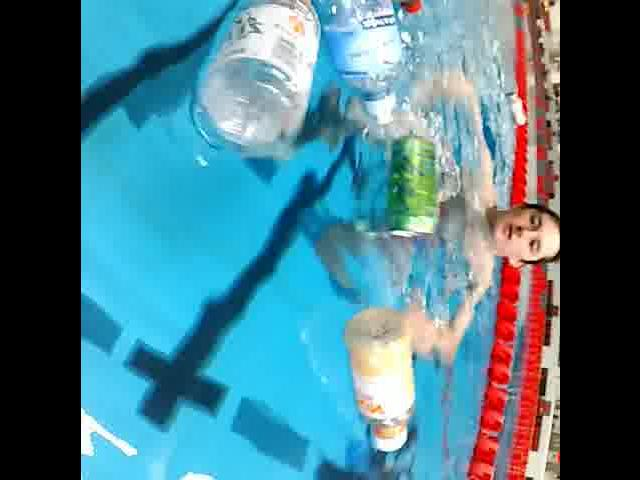Bottle: (178, 0, 322, 160), (272, 0, 406, 136), (337, 296, 417, 459), (350, 0, 428, 23)
Can: (382, 129, 444, 249)
